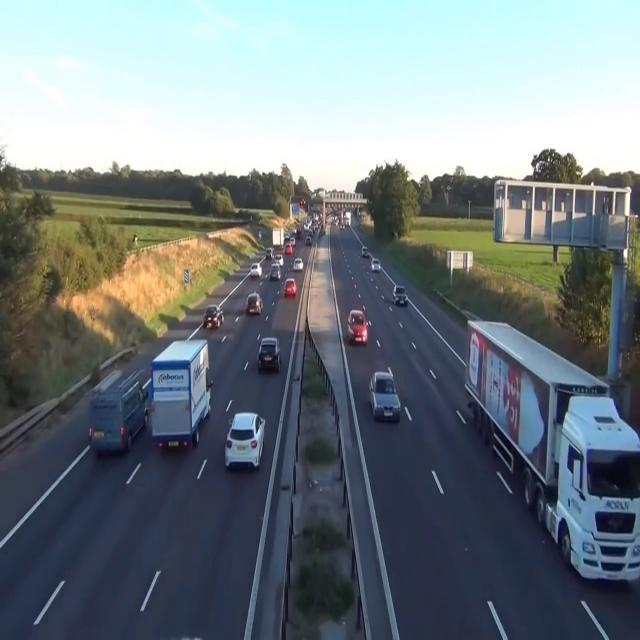belum terisi: (457, 285, 640, 610), (143, 329, 214, 455), (84, 360, 148, 455), (220, 392, 271, 476), (362, 362, 406, 431), (383, 265, 417, 319), (258, 326, 284, 378), (343, 299, 366, 351), (201, 295, 225, 344), (276, 277, 302, 301), (246, 287, 264, 320)
